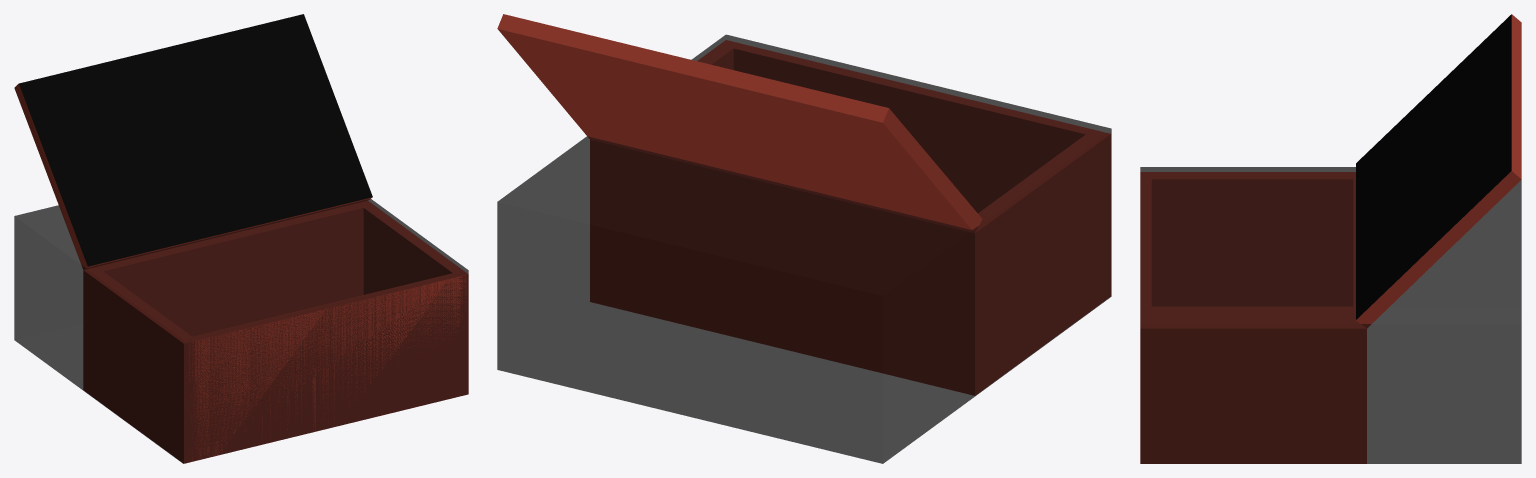
Rendered from FlareGunBox.fbx.
3 views of the same model, side by side, from view 1: azimuth 30°, elevation 25°; view 2: azimuth 150°, elevation 25°; view 3: azimuth 270°, elevation 25° (orthographic). The views are drawn at different scales.
Visible parts, largest first — view 1: FlareGunBox, FlareGunBox_BBox; view 2: FlareGunBox_BBox, FlareGunBox; view 3: FlareGunBox_BBox, FlareGunBox.
Boxes of the visible parts, x1,y1,x2,y2 form: FlareGunBox: [14, 14, 468, 463]; FlareGunBox_BBox: [14, 199, 468, 463]; FlareGunBox_BBox: [497, 34, 1111, 463]; FlareGunBox: [497, 14, 1110, 395]; FlareGunBox_BBox: [1140, 167, 1521, 463]; FlareGunBox: [1140, 14, 1521, 463].
Size of the model in its own units: 1.34 by 1.17 by 1.38.
Materials: 2 (1 with a texture image).
